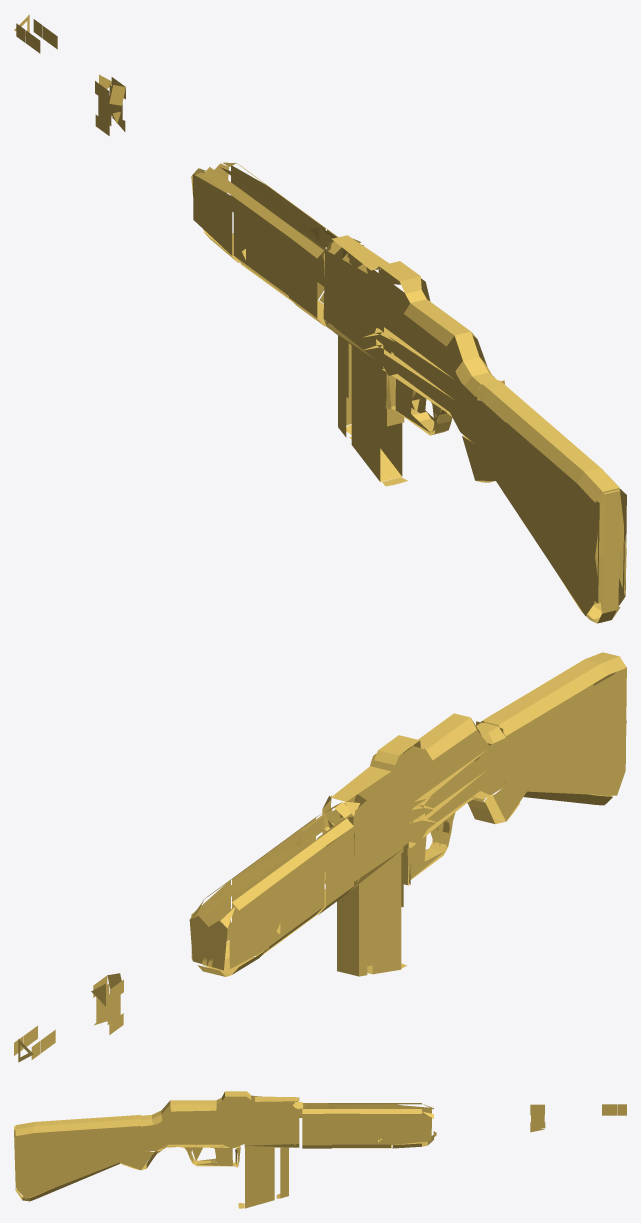
The model's file is charm_mst_fusil_4.glb.
3 renders of one model, top to bottom at view 1: azimuth 30°, elevation 25°; view 2: azimuth 150°, elevation 25°; view 3: azimuth 270°, elevation 25°, orthographic. The views are drawn at different scales.
Parts seen in each view (by area): view 1: p0_paint; view 2: p0_paint; view 3: p0_paint.
Part boxes in pixels (x1=…): p0_paint: x1=14, y1=14, x2=626, y2=623; p0_paint: x1=14, y1=652, x2=626, y2=1062; p0_paint: x1=14, y1=1091, x2=626, y2=1208.
Size of the model in its own units: 0.0693 by 0.2444 by 1.21.
